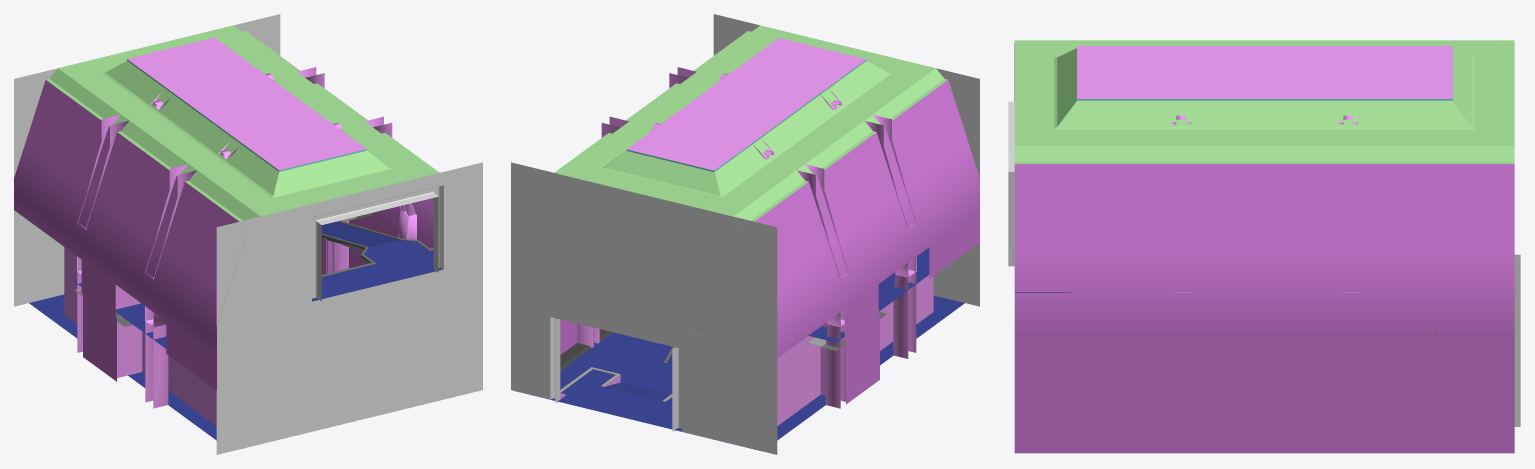
The model's file is RoomMovement.fbx.
The picture shows the model from 3 angles, left to right: view 1: azimuth 30°, elevation 25°; view 2: azimuth 150°, elevation 25°; view 3: azimuth 270°, elevation 25°; orthographic projection. The views are drawn at different scales.
Visible parts, largest first — view 1: Room_Movement, Room_Movement_Platforms; view 2: Room_Movement, Room_Movement_Platforms; view 3: Room_Movement.
Part boxes in pixels (x1,y1,x2,y2): Room_Movement: (14,14,482,454); Room_Movement_Platforms: (29,67,443,440); Room_Movement: (511,14,979,454); Room_Movement_Platforms: (515,67,964,451); Room_Movement: (1008,40,1520,453).
Bounding box in the file's own units: 1819 × 1686 × 2459.
